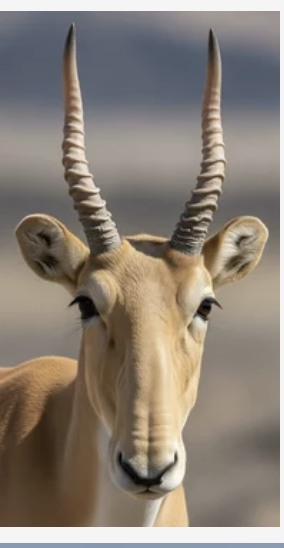saiga: (6, 16, 270, 548)
